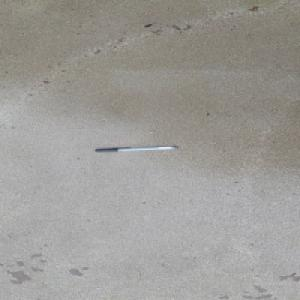Pen: (94, 145, 178, 152)
